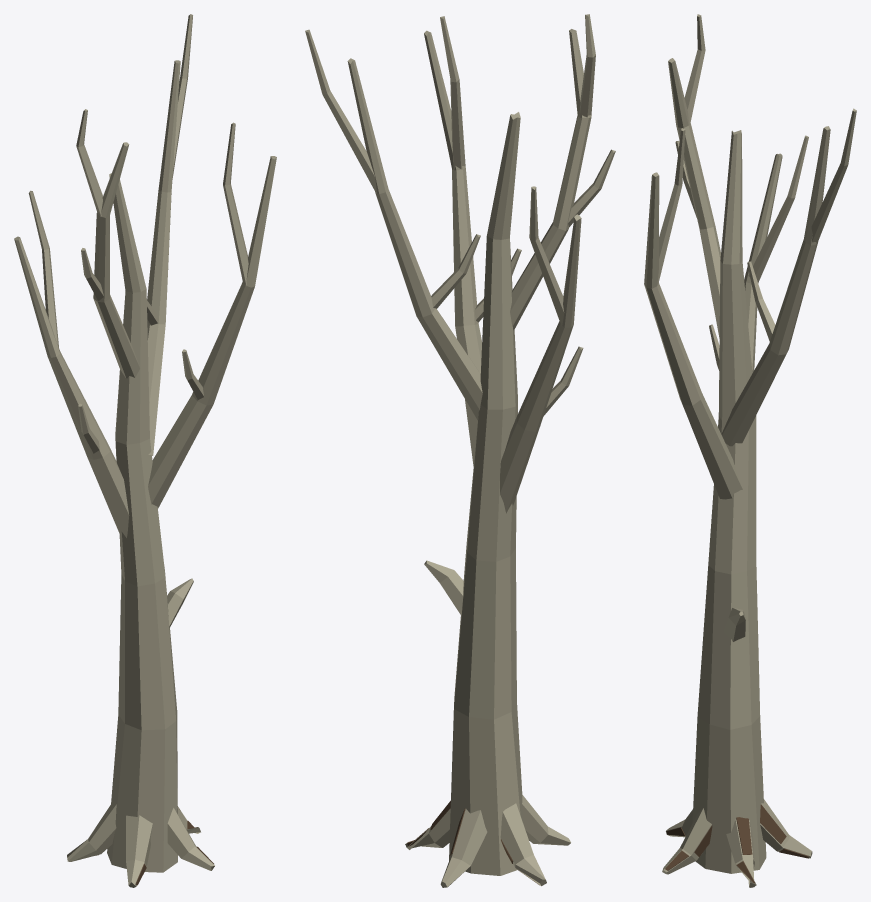
The model's file is prop-tree-tuart-dead.glb.
The picture shows the model from 3 angles, left to right: view 1: azimuth 30°, elevation 25°; view 2: azimuth 150°, elevation 25°; view 3: azimuth 270°, elevation 25°; orthographic projection. The views are drawn at different scales.
Parts seen in each view (by area): view 1: leafless_tree; view 2: leafless_tree; view 3: leafless_tree.
Part boxes in pixels (<box>): leafless_tree: <box>14,14,276,887</box>; leafless_tree: <box>305,14,615,887</box>; leafless_tree: <box>644,14,856,887</box>.
Size of the model in its own units: 0.6445 by 2.23 by 0.5335.
